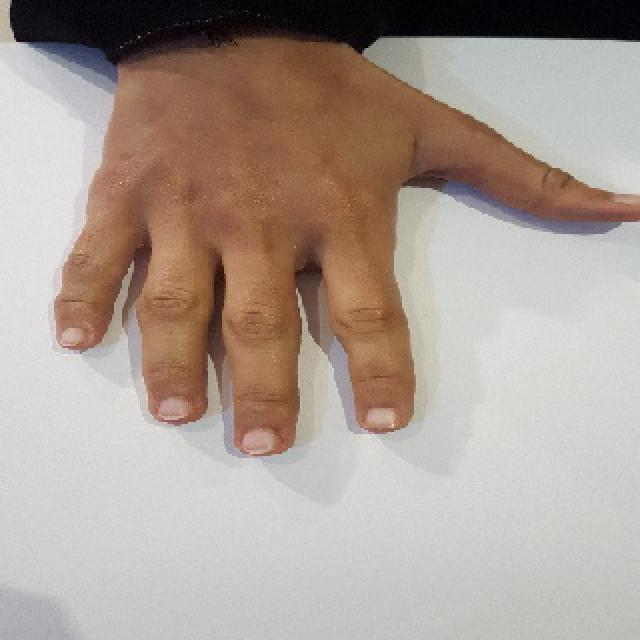Nail: (241, 428, 279, 455), (158, 396, 191, 421), (365, 408, 396, 430), (60, 328, 88, 348), (612, 194, 640, 205)
